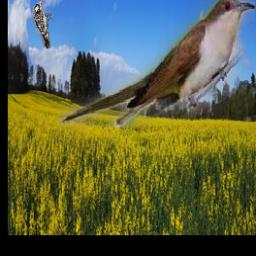Cuckoo: (61, 0, 256, 128)
Woodpecker: (31, 0, 54, 48)
